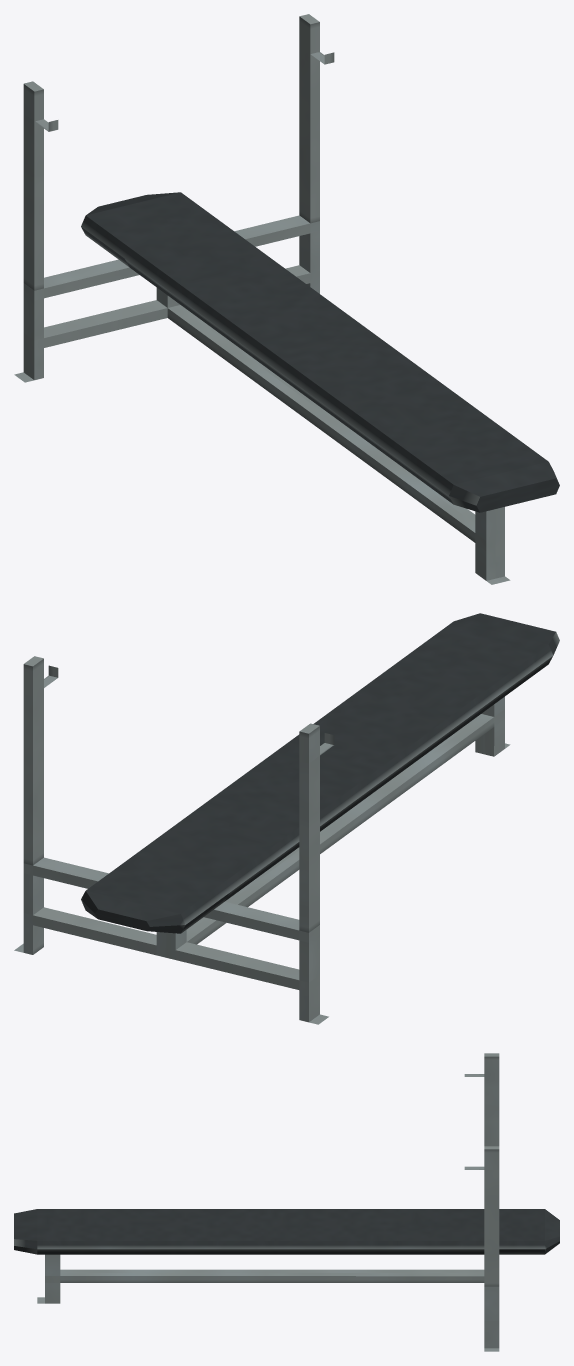
File: SM_benchPress1.001.fbx
The picture shows the model from 3 angles, top to bottom: view 1: azimuth 30°, elevation 25°; view 2: azimuth 150°, elevation 25°; view 3: azimuth 270°, elevation 25°; orthographic projection. The views are drawn at different scales.
Parts seen in each view (by area): view 1: benchPress1.001; view 2: benchPress1.001; view 3: benchPress1.001.
Part boxes in pixels (box(x1,y1,x2,y2)): benchPress1.001: box(14, 14, 559, 584); benchPress1.001: box(14, 613, 559, 1024); benchPress1.001: box(14, 1053, 559, 1351).
Size of the model in its own units: 32.01 by 29 by 72.1.
